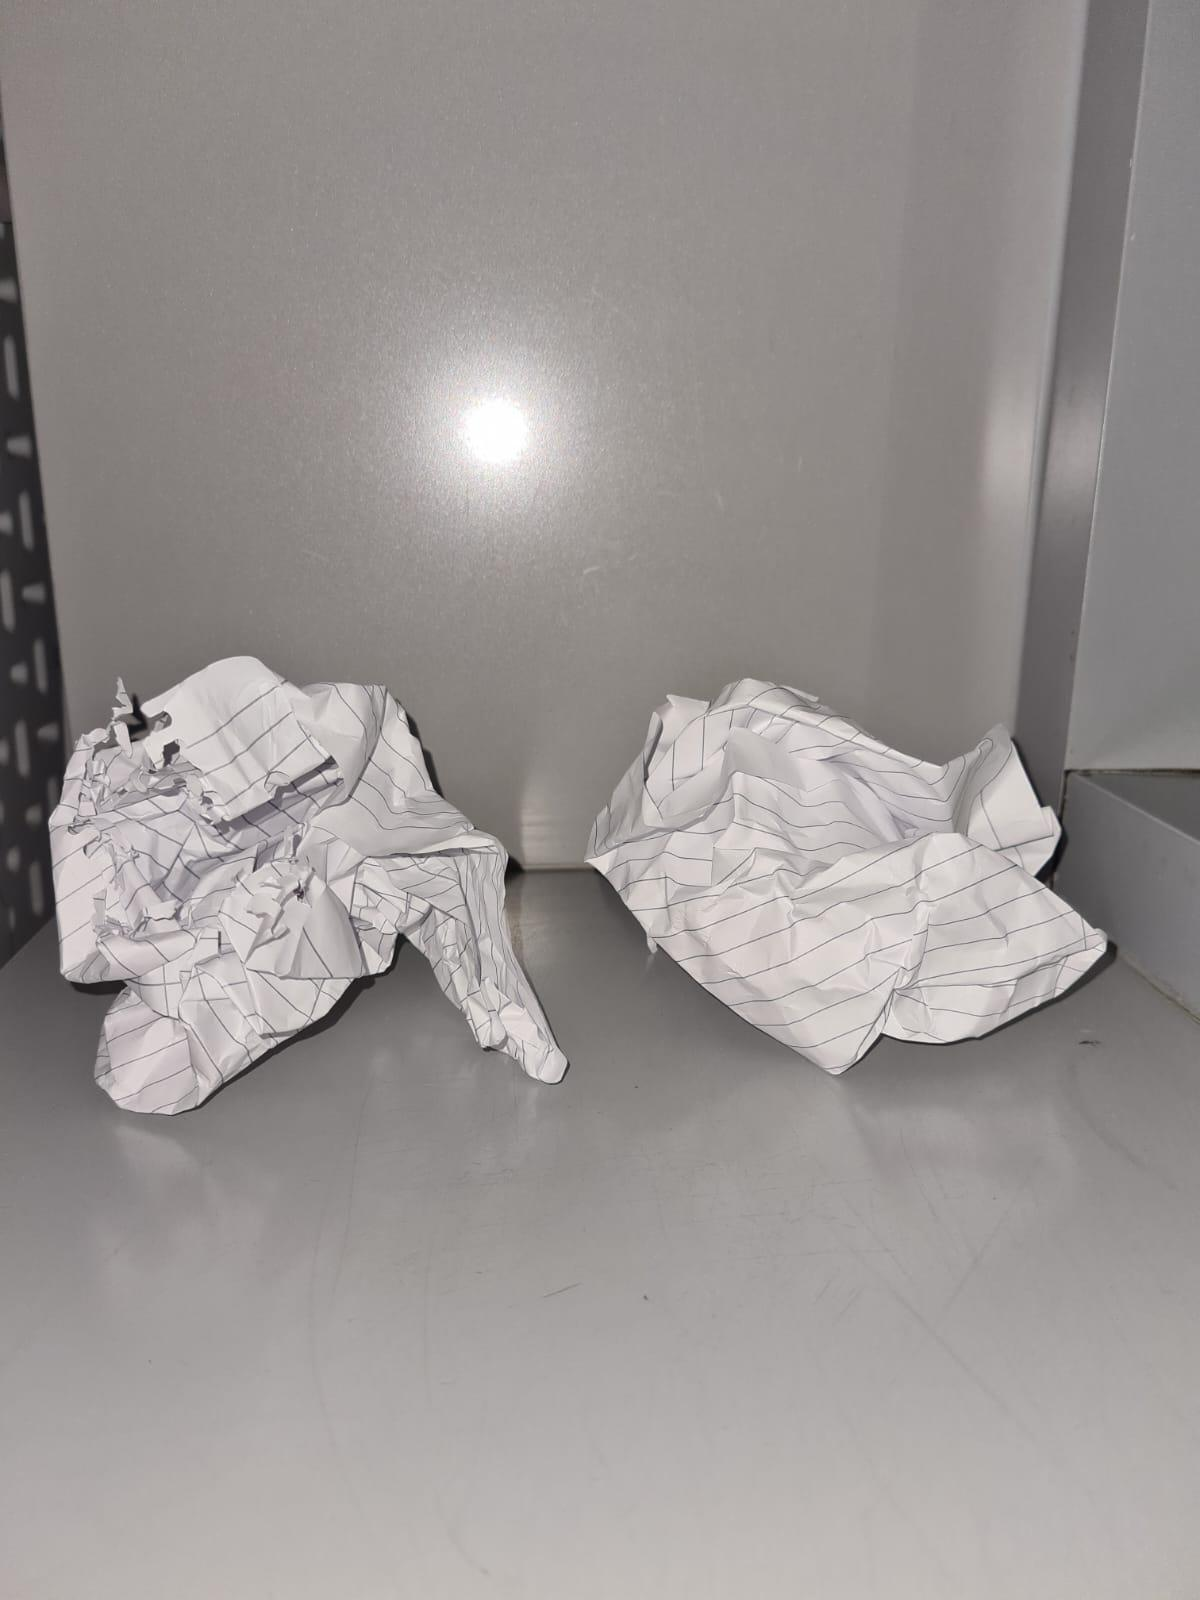Paper: (68, 661, 570, 1151), (621, 661, 1130, 1084)
